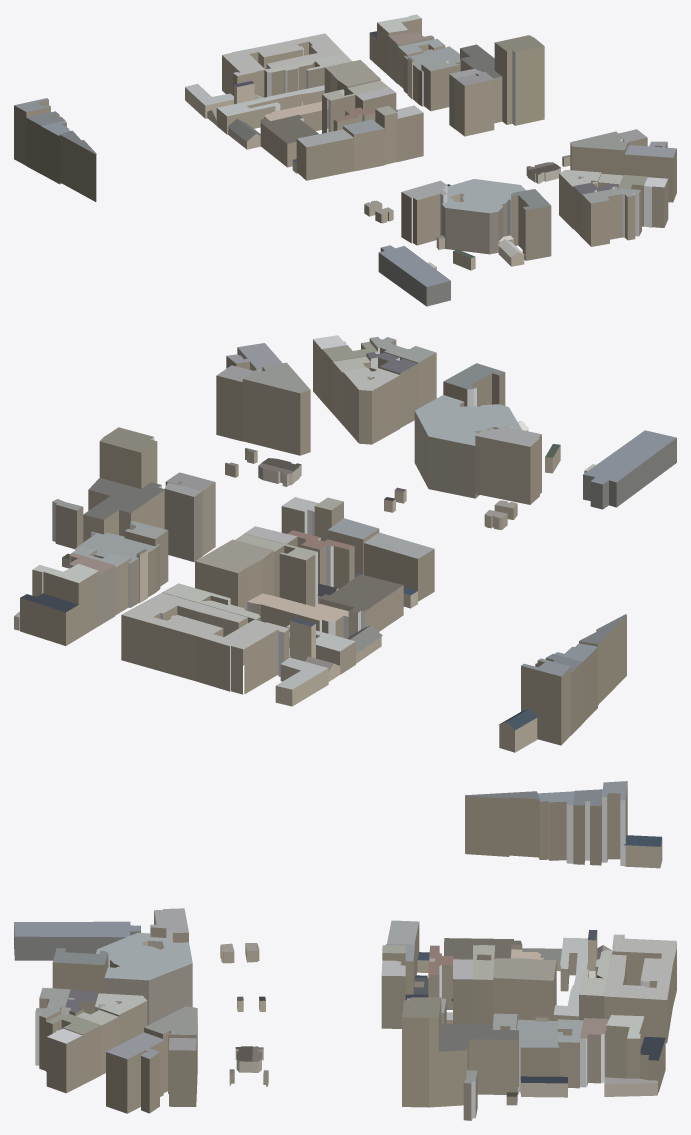
The picture shows the model from 3 angles, top to bottom: view 1: azimuth 30°, elevation 25°; view 2: azimuth 150°, elevation 25°; view 3: azimuth 270°, elevation 25°; orthographic projection. The views are drawn at different scales.
Parts seen in each view (by area): view 1: tuile; view 2: tuile; view 3: tuile.
Part boxes in pixels (bbox=[...]): tuile: bbox=[14, 14, 676, 306]; tuile: bbox=[14, 335, 676, 752]; tuile: bbox=[14, 781, 676, 1120].
Size of the model in its own units: 260 by 41.29 by 266.
